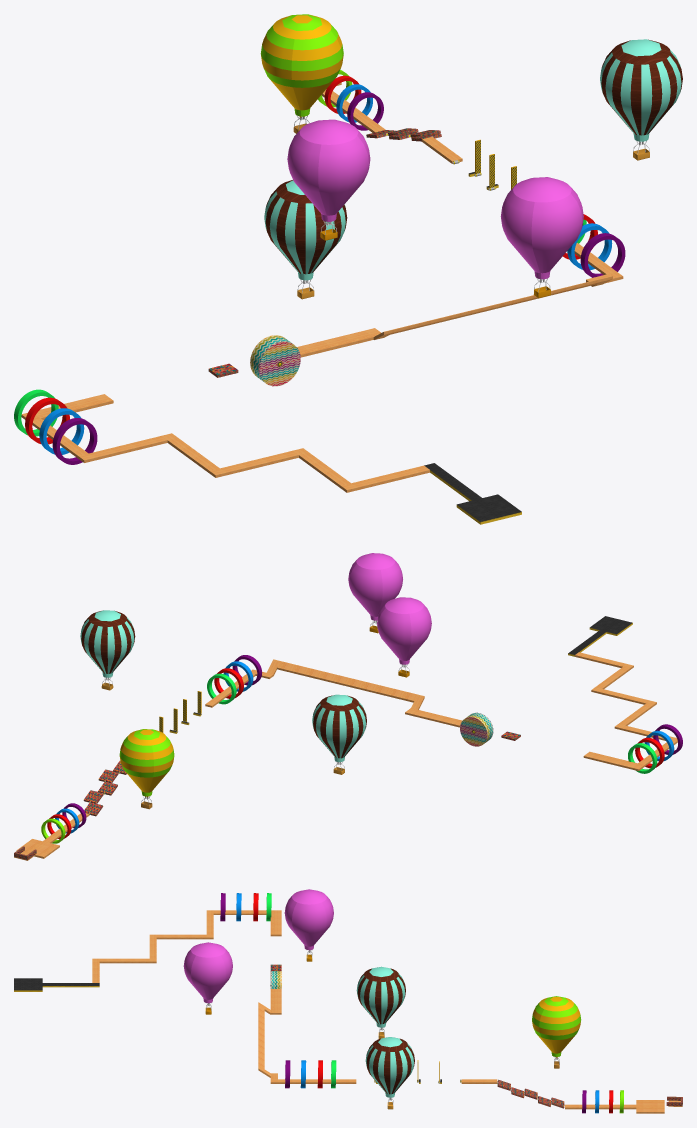
File: LEVEL 29.fbx
The picture shows the model from 3 angles, top to bottom: view 1: azimuth 30°, elevation 25°; view 2: azimuth 150°, elevation 25°; view 3: azimuth 270°, elevation 25°; orthographic projection. The views are drawn at different scales.
Visible parts, largest first — view 1: ballon__3_, ballon, ballon_4, ballon__1_, ballon__2_, Floors_Slippery_Combined, Roller, polySurface3, polySurface13, Prisms_Combined, purple__2_, polySurface16 (+1 smaller); view 2: ballon__3_, ballon, ballon__2_, ballon__1_, ballon_4, polySurface12, Floors_Slippery_Combined, Roller, Prisms_Combined, polySurface3, polySurface14; view 3: ballon__3_, ballon_4, ballon, ballon__1_, ballon__2_, Floors_Slippery_Combined, polySurface12, polySurface2, polySurface3, polySurface9.
Part boxes in pixels (<box>): ballon__3_: <box>287,119,370,240</box>; ballon: <box>600,39,682,160</box>; ballon_4: <box>500,177,583,298</box>; ballon__1_: <box>260,14,343,133</box>; ballon__2_: <box>264,180,347,299</box>; Floors_Slippery_Combined: <box>32,418,298,477</box>; Roller: <box>250,335,300,386</box>; polySurface3: <box>456,494,521,524</box>; polySurface13: <box>297,328,380,357</box>; Prisms_Combined: <box>373,276,612,339</box>; purple__2_: <box>52,418,97,464</box>; polySurface16: <box>341,465,429,492</box>; ballon__3_: <box>377,597,431,677</box>; ballon: <box>80,610,135,690</box>; ballon__2_: <box>312,694,366,774</box>; ballon__1_: <box>119,729,174,809</box>; ballon_4: <box>348,553,402,633</box>; polySurface12: <box>277,662,424,709</box>; Floors_Slippery_Combined: <box>598,689,677,766</box>; Roller: <box>460,712,493,746</box>; Prisms_Combined: <box>273,659,424,702</box>; polySurface3: <box>589,616,632,635</box>; polySurface14: <box>583,751,644,770</box>; ballon__3_: <box>284,889,333,961</box>; ballon_4: <box>183,942,232,1014</box>; ballon: <box>365,1037,414,1109</box>; ballon__1_: <box>532,996,581,1068</box>; ballon__2_: <box>356,966,405,1038</box>; Floors_Slippery_Combined: <box>149,910,266,958</box>; polySurface12: <box>259,1003,270,1068</box>; polySurface2: <box>636,1100,664,1113</box>; polySurface3: <box>14,978,42,991</box>; polySurface9: <box>270,1079,356,1083</box>.
Size of the model in its own units: 14683 by 4410 by 18755.
32 materials, 14 textured.
